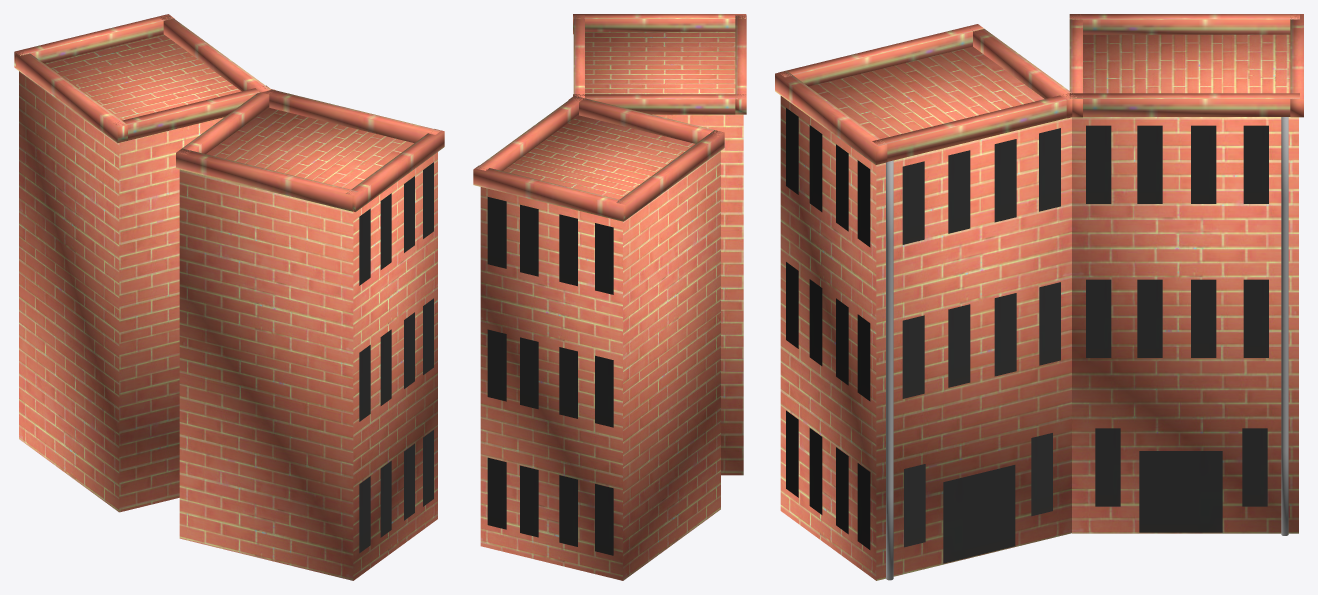
Rendered from building5.obj.
The picture shows the model from 3 angles, left to right: view 1: azimuth 30°, elevation 25°; view 2: azimuth 150°, elevation 25°; view 3: azimuth 270°, elevation 25°; orthographic projection. The views are drawn at different scales.
Visible parts, largest first — view 1: Box011, Box006, Box012, Box010, Box007, Box008, Box009, Box013, Box002, Box014, Plane063, Plane071 (+10 smaller); view 2: Box006, Box011, Box008, Box013, Box014, Box007, Box009, Box002, Plane021, Plane025, Plane029, Plane022 (+10 smaller); view 3: Box011, Box006, Plane050, Plane075, Box002, Box010, Box007, Box012, Cylinder003, Cylinder002, Box013, Box014 (+34 smaller).
Part boxes in pixels (x1,y1,x2,y2): Box011: (179,107,437,580); Box006: (19,34,241,512); Box012: (176,148,357,211); Box010: (259,88,440,142); Box007: (16,51,127,143); Box008: (14,14,174,68); Box009: (115,85,271,140); Box013: (346,129,444,211); Box002: (160,15,270,92); Box014: (178,89,275,154); Plane063: (359,476,370,553); Plane071: (359,208,370,285); Box006: (480,115,720,580); Box011: (585,31,743,475); Box008: (473,165,625,221); Box013: (573,14,746,34); Box014: (573,94,745,114); Box007: (616,130,724,220); Box009: (568,95,722,143); Box002: (476,96,583,170); Plane021: (487,457,506,529); Plane025: (487,329,506,401); Plane029: (487,197,506,268); Plane022: (595,355,613,427); Box011: (780,46,1071,580); Box006: (1072,34,1298,533); Plane050: (1139,451,1222,532); Plane075: (943,465,1015,563); Box002: (1069,93,1299,116); Box010: (872,93,1076,161); Box007: (1069,14,1299,34); Box012: (778,24,984,86); Cylinder003: (886,160,893,580); Cylinder002: (1281,117,1288,535); Box013: (775,70,887,164); Box014: (970,28,1072,118).
Size of the model in its own units: 176 by 269 by 294.
